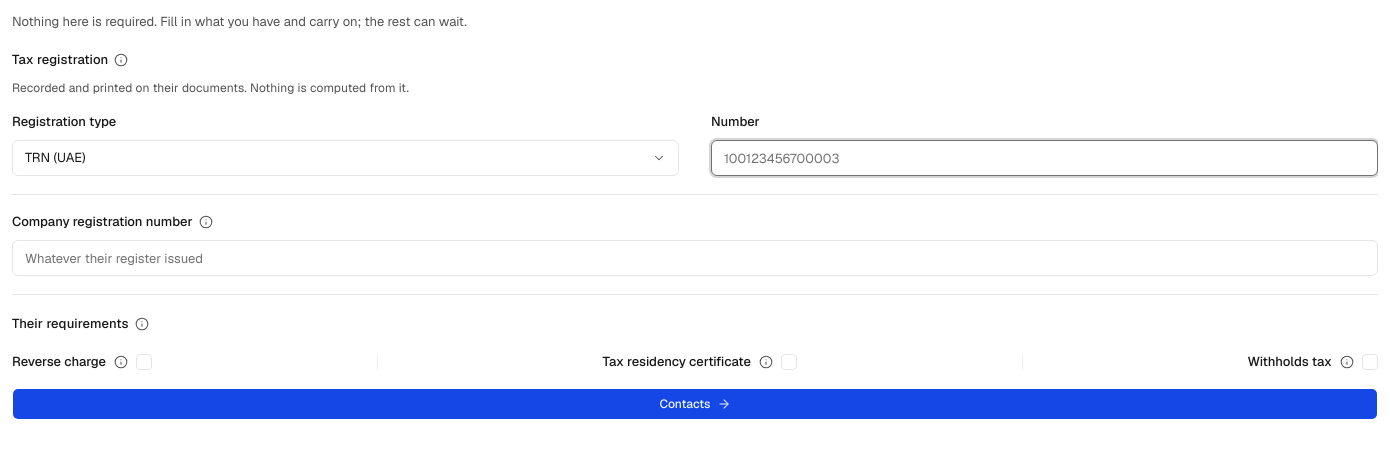
it: the foreign branch › rejects a TRN that fails its own format
Type "12345" into the field labelled "Number" at (1044, 158), box x1=711 y1=140 x2=1378 y2=176
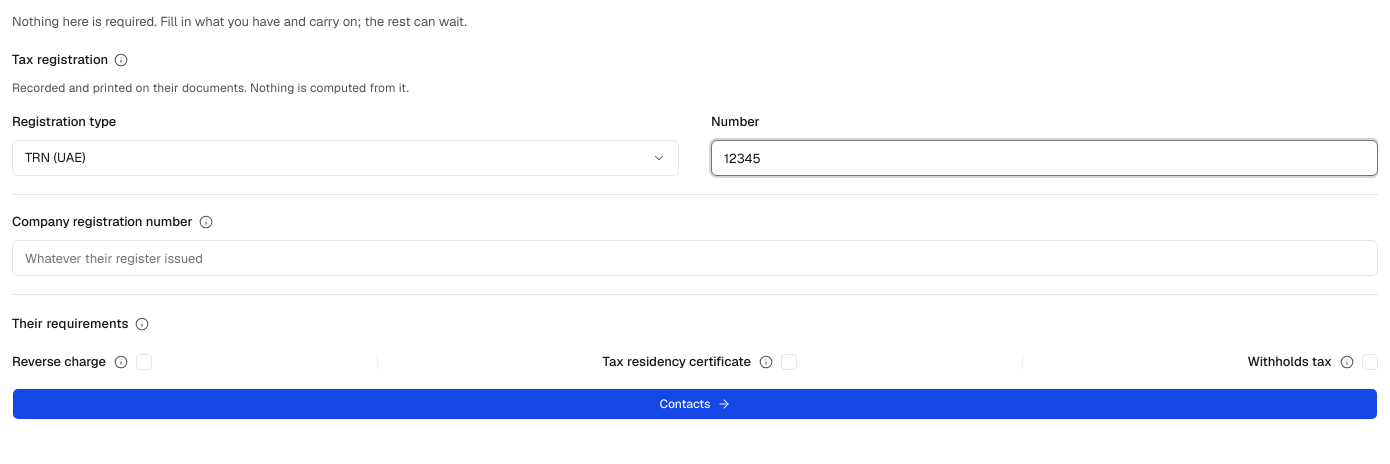
Click the button "Contacts" at (695, 404), box x1=12 y1=388 x2=1378 y2=420
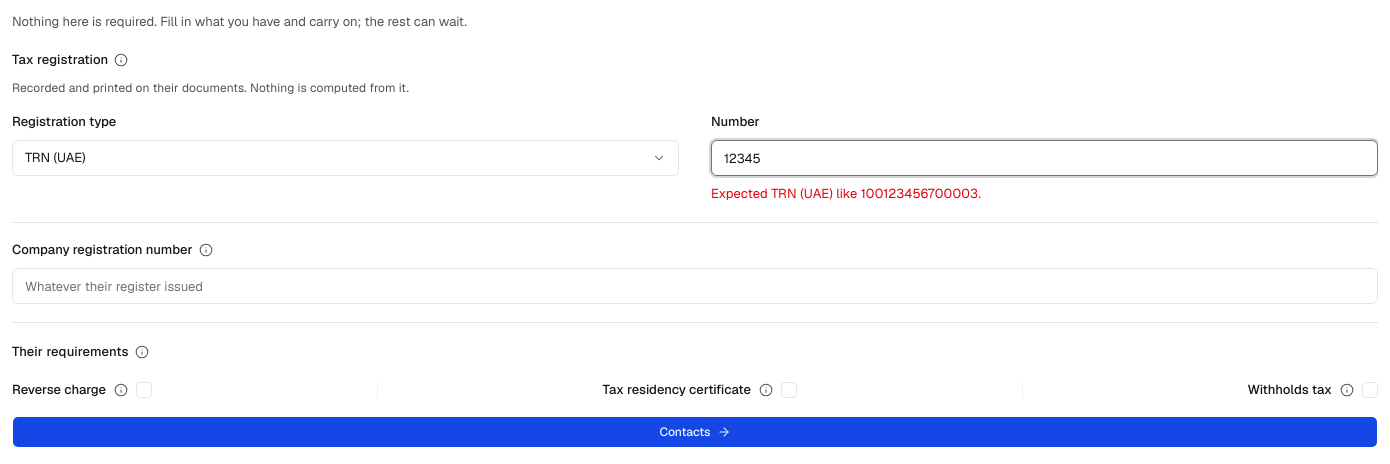
Check: the text "Expected TRN (UAE) like 100123456700003." is shown, box x1=711 y1=185 x2=981 y2=202
